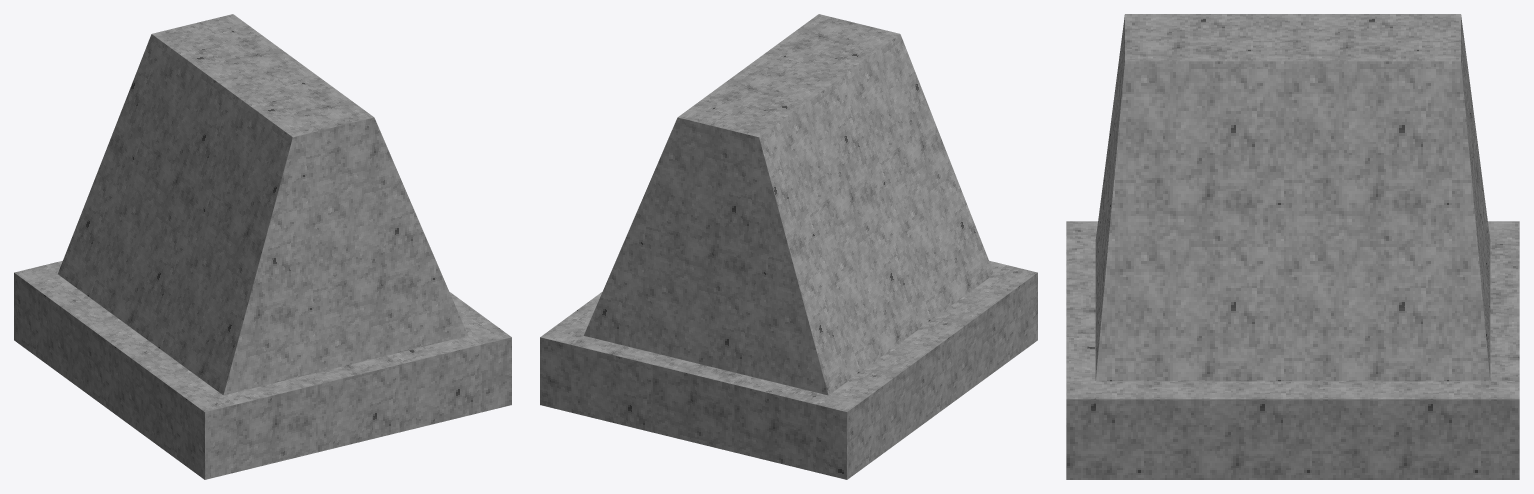
Rendered from Barrier_3.fbx.
3 views of the same model, side by side, from view 1: azimuth 30°, elevation 25°; view 2: azimuth 150°, elevation 25°; view 3: azimuth 270°, elevation 25° (orthographic). The views are drawn at different scales.
Visible parts, largest first — view 1: Cube.022; view 2: Cube.022; view 3: Cube.022.
Part boxes in pixels (x1,y1,x2,y2): Cube.022: (14,14,511,479); Cube.022: (540,14,1037,479); Cube.022: (1066,14,1519,479).
Bounding box in the file's own units: 136 × 126 × 146.
